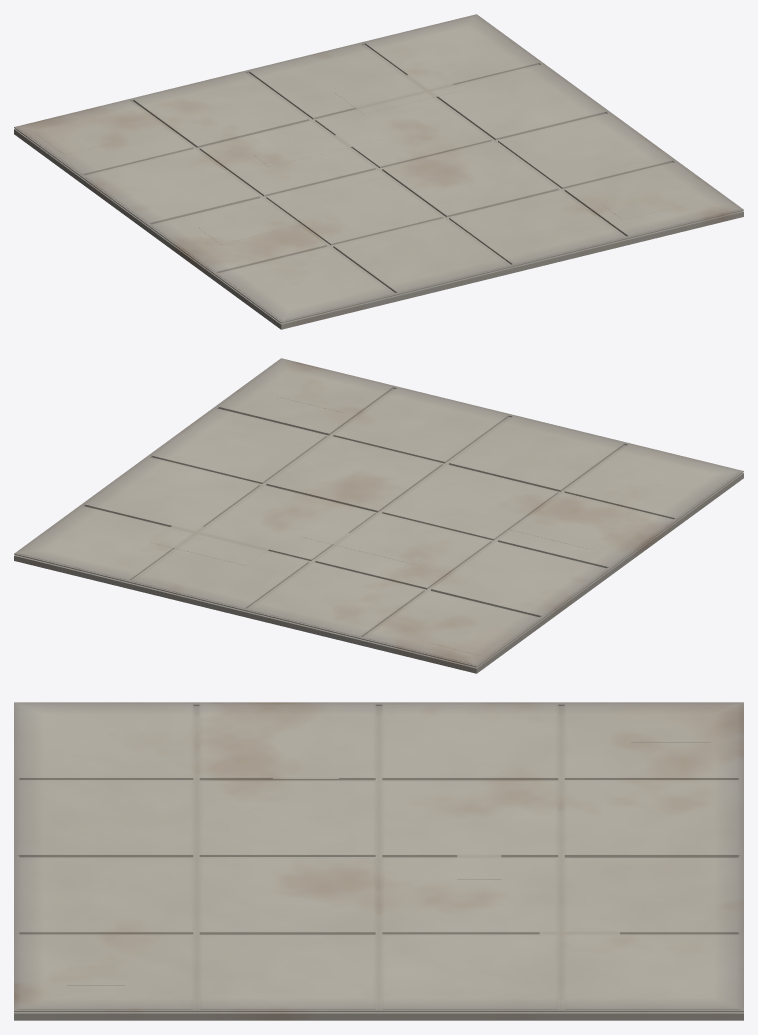
The model's file is ashpier-floor.glb.
3 renders of one model, top to bottom at view 1: azimuth 30°, elevation 25°; view 2: azimuth 150°, elevation 25°; view 3: azimuth 270°, elevation 25°, orthographic. The views are drawn at different scales.
Visible parts, largest first — view 1: AshpierFloor; view 2: AshpierFloor; view 3: AshpierFloor.
Boxes of the visible parts, x1=… form: AshpierFloor: x1=14, y1=14, x2=743, y2=329; AshpierFloor: x1=14, y1=358, x2=743, y2=673; AshpierFloor: x1=14, y1=702, x2=743, y2=1020.
Size of the model in its own units: 4 by 0.0612 by 4.
1 material, 1 textured.
